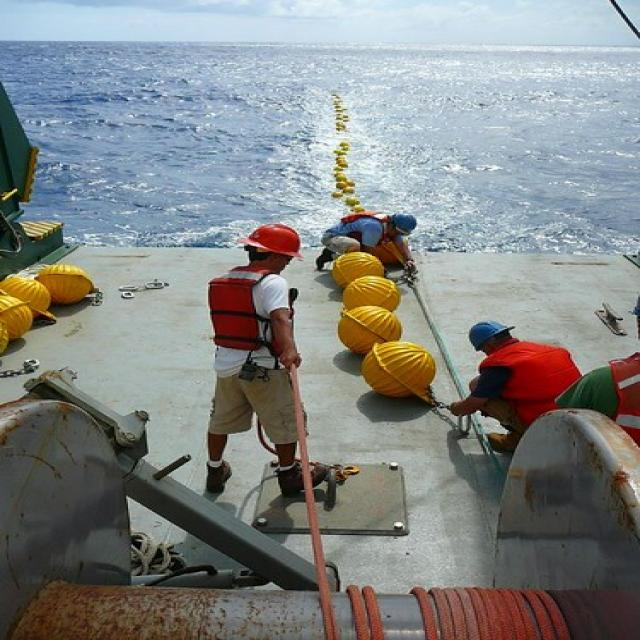Reflective-Jacket: (200, 266, 297, 358), (470, 339, 586, 412), (602, 351, 640, 442)
Safety-Helmet: (236, 219, 306, 260), (459, 315, 519, 351), (389, 210, 422, 237)
